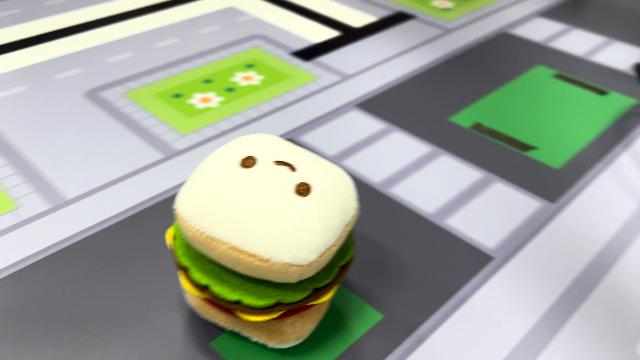sandwich: (163, 131, 363, 349)
